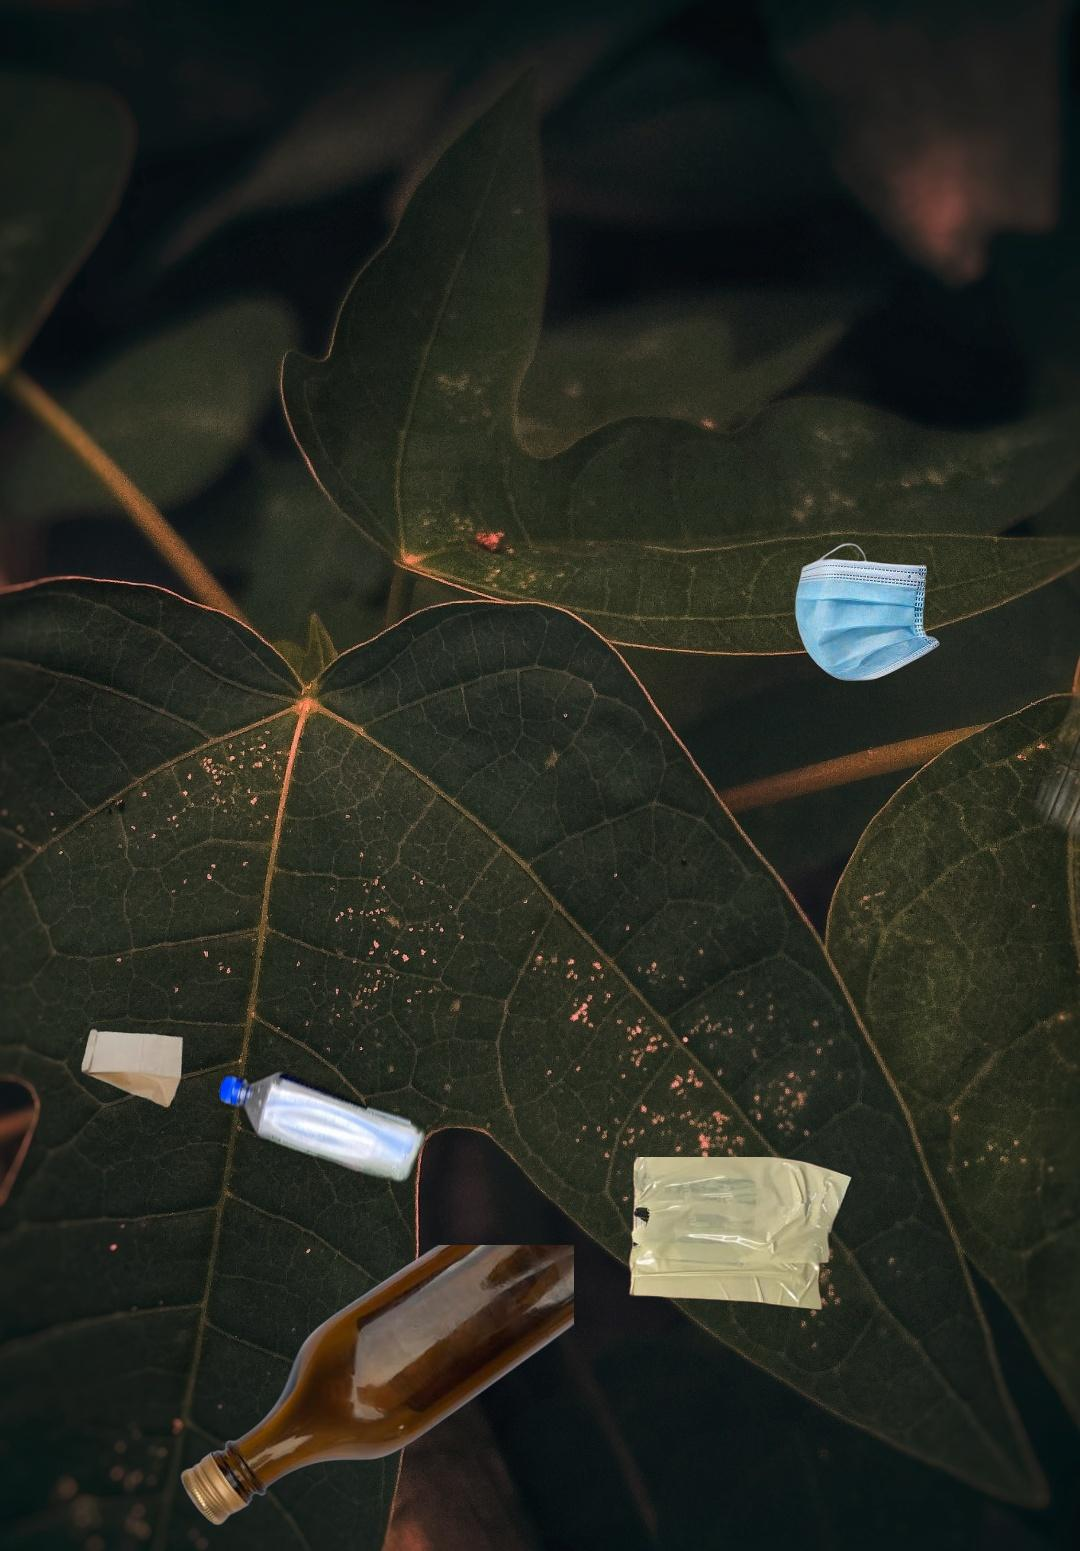glass: (177, 1245, 574, 1527)
paper-bag: (78, 1025, 186, 1121)
plastic-bottles: (936, 268, 1080, 950), (215, 1065, 430, 1189)
trash: (792, 540, 943, 684)
trashbox-cardboard: (467, 1157, 856, 1542)
